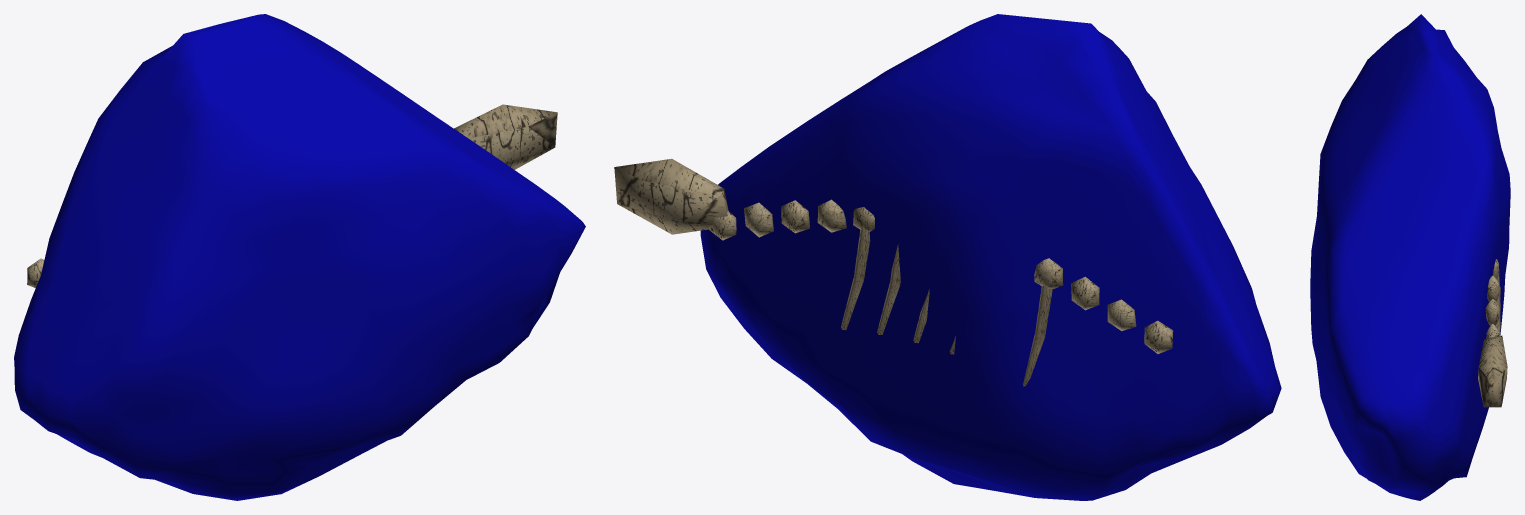
Rendered from PROP_PC_FossilSlab.fbx.
3 views of the same model, side by side, from view 1: azimuth 30°, elevation 25°; view 2: azimuth 150°, elevation 25°; view 3: azimuth 270°, elevation 25° (orthographic). The views are drawn at different scales.
Parts seen in each view (by area): view 1: PROP_PC_FossilSlab_LOD0; view 2: PROP_PC_FossilSlab_LOD0; view 3: PROP_PC_FossilSlab_LOD0.
Part boxes in pixels (bbox=[...]): PROP_PC_FossilSlab_LOD0: bbox=[14, 14, 585, 500]; PROP_PC_FossilSlab_LOD0: bbox=[614, 14, 1281, 500]; PROP_PC_FossilSlab_LOD0: bbox=[1310, 14, 1510, 500].
Size of what is drawn, in the model's own units: 4.23 by 3.24 by 1.4.
